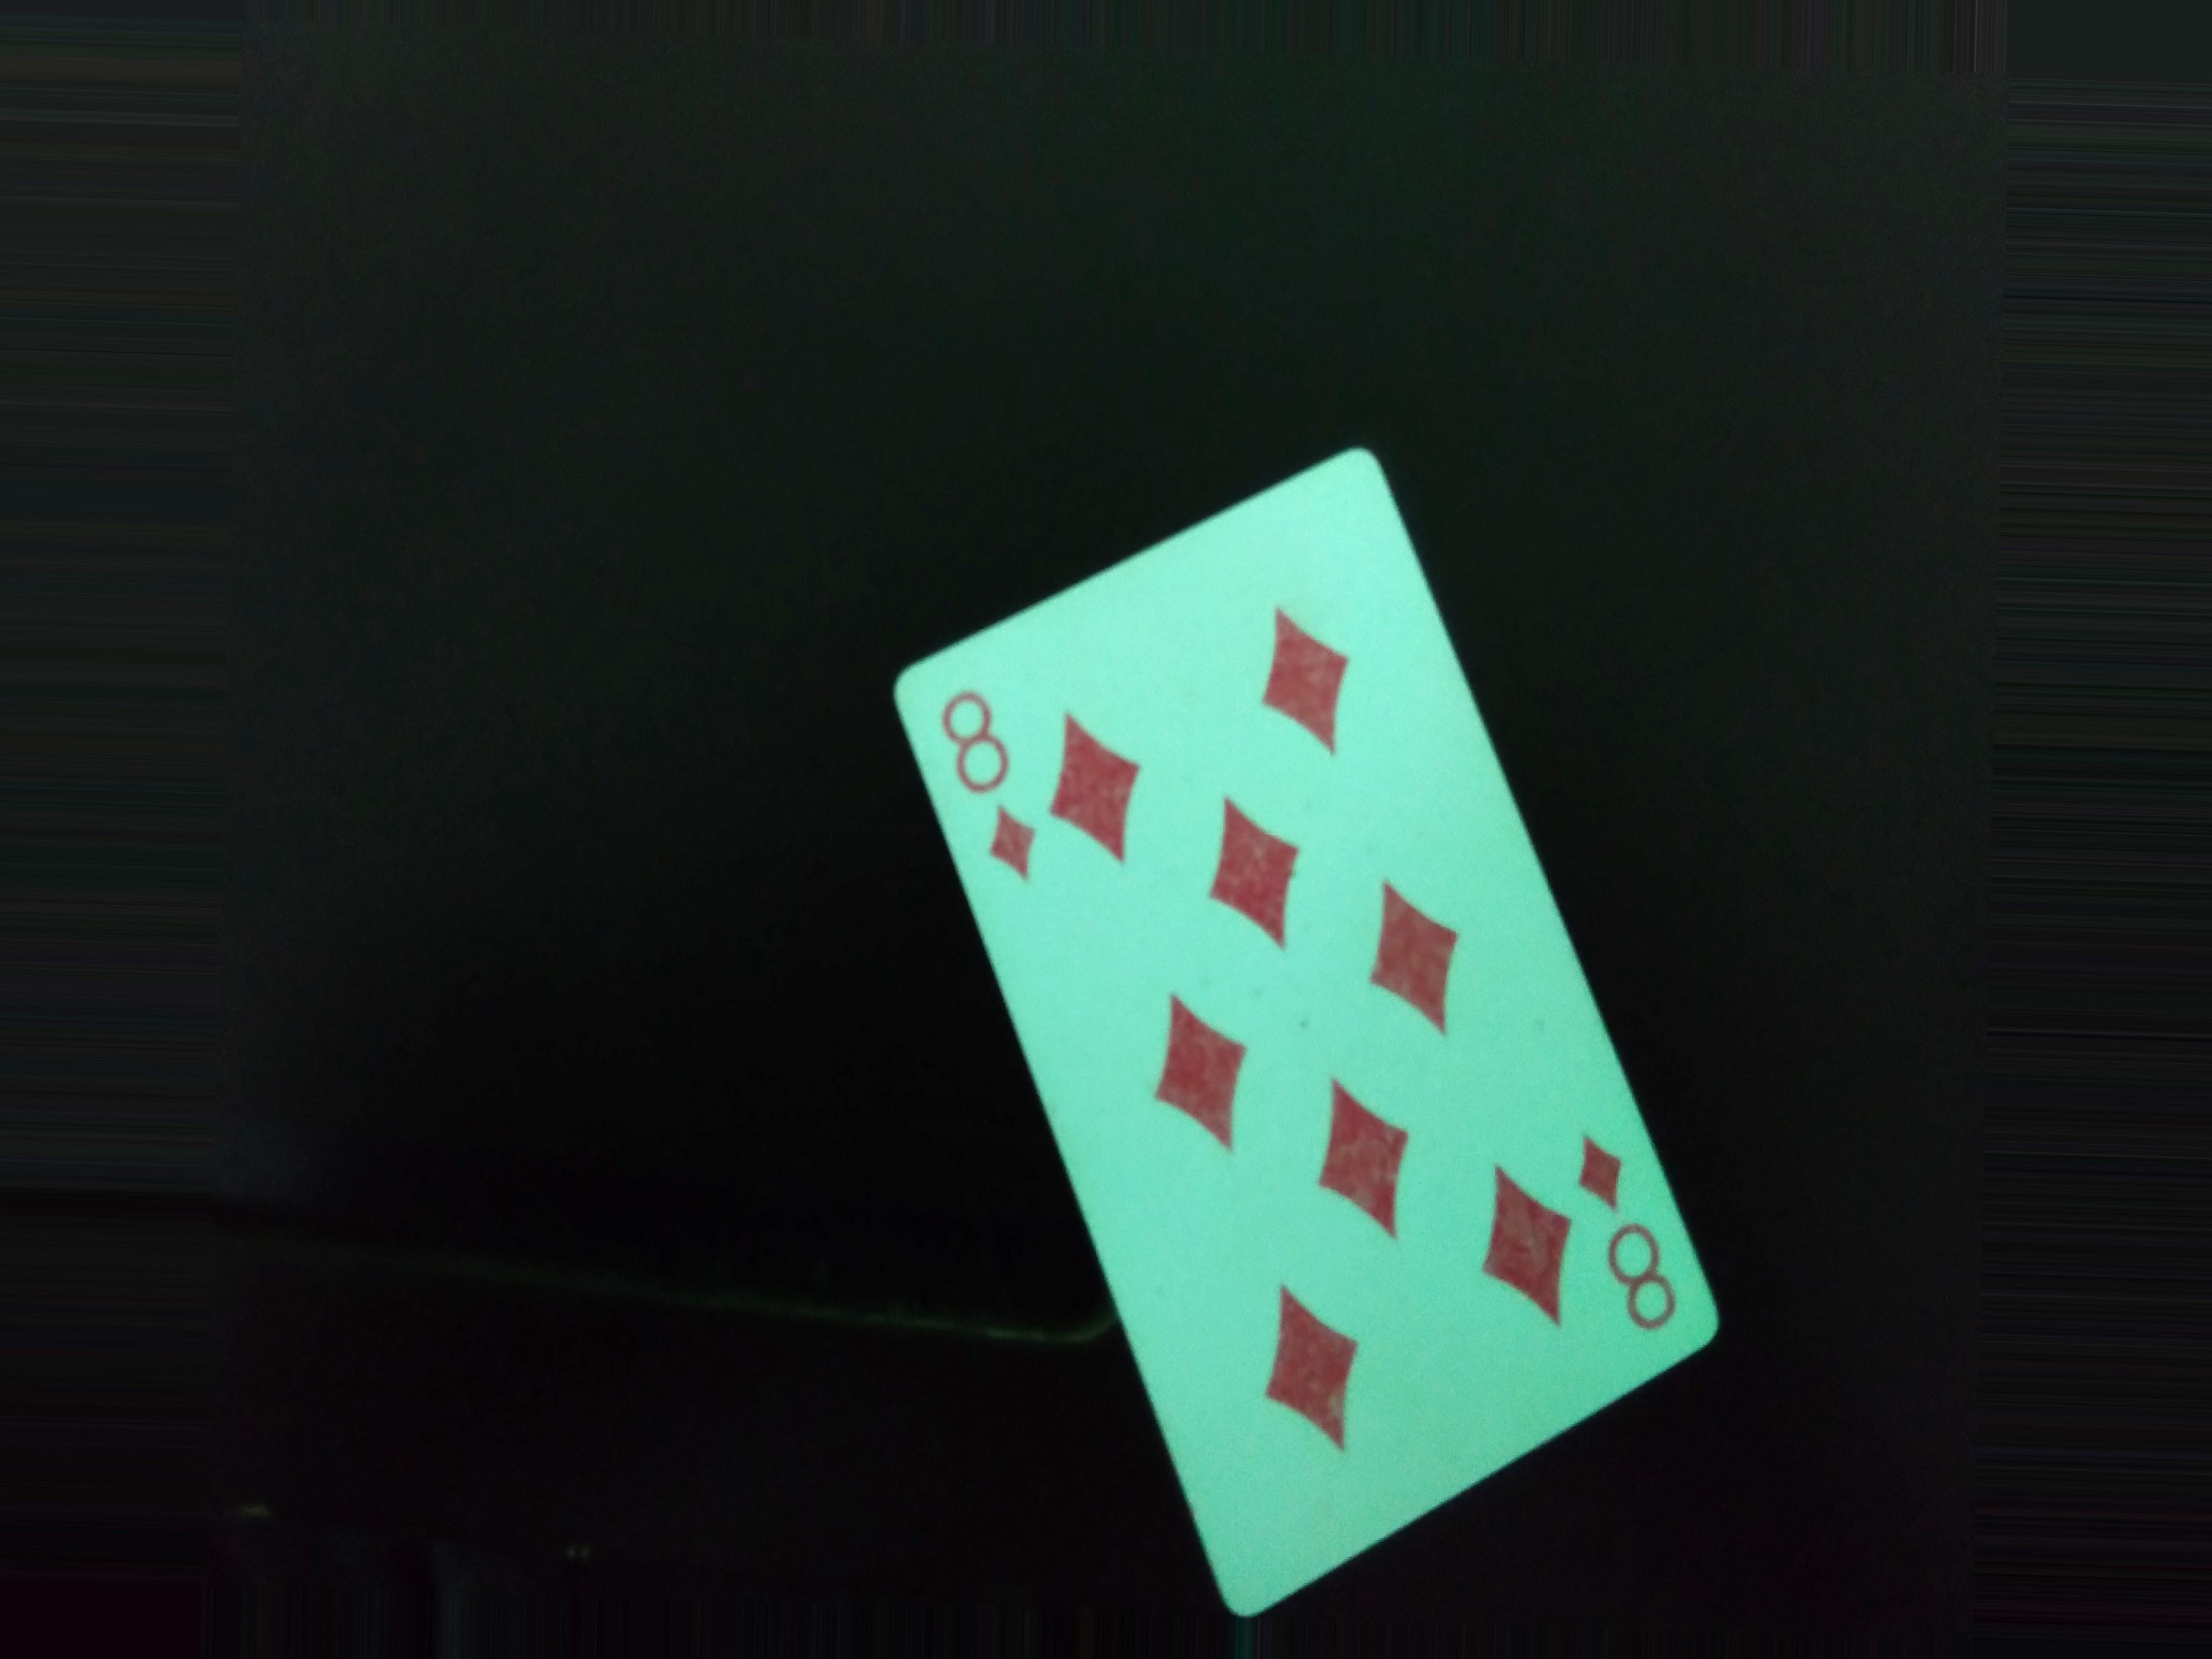8D: (913, 681, 1083, 892)
